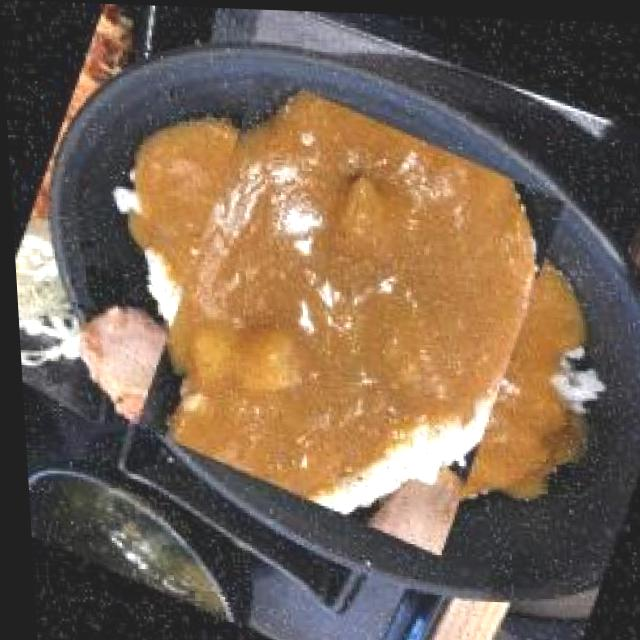curry: (106, 73, 591, 546)
